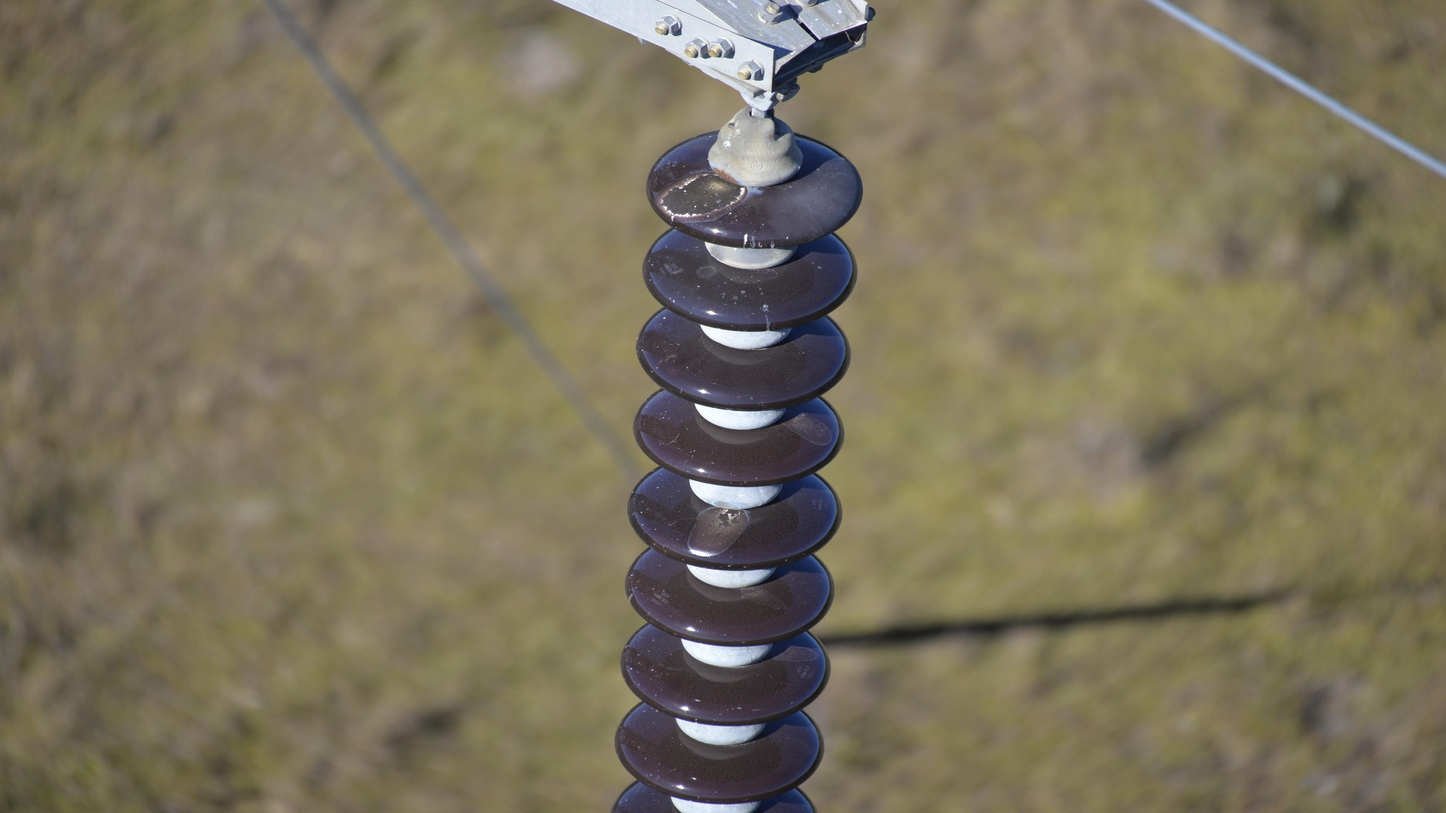insulator: (602, 127, 866, 813)
